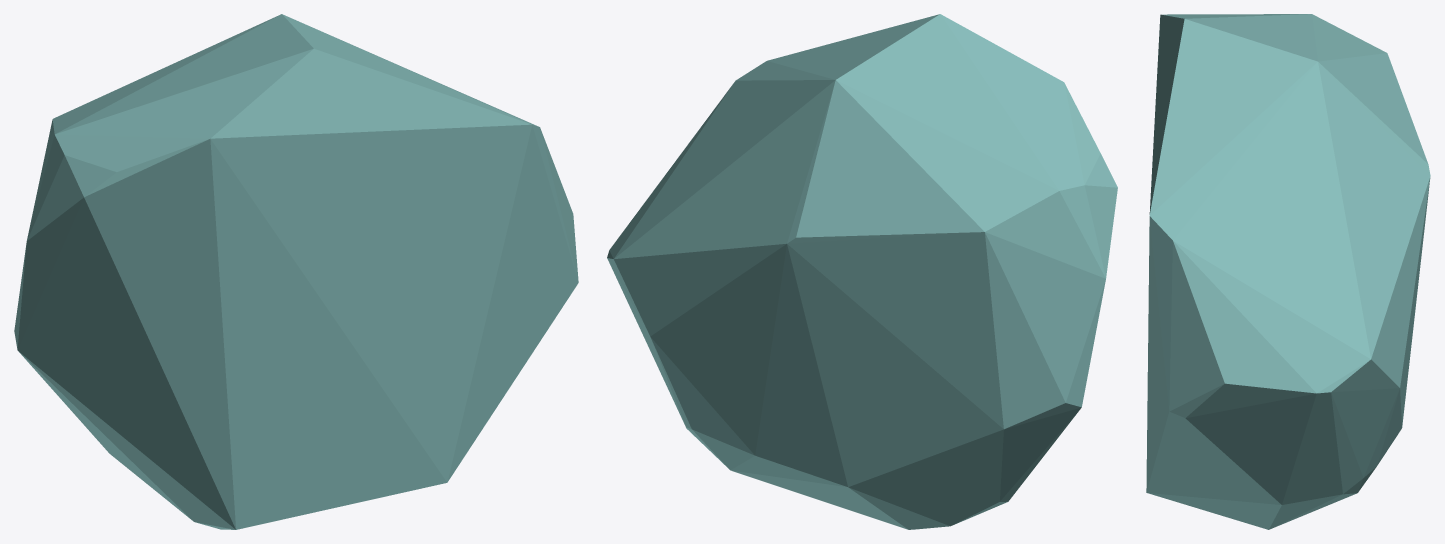
The model's file is food_produce_garlic_a01.glb.
3 views of the same model, side by side, from view 1: azimuth 30°, elevation 25°; view 2: azimuth 150°, elevation 25°; view 3: azimuth 270°, elevation 25° (orthographic). The views are drawn at different scales.
Visible parts, largest first — view 1: geometry_0; view 2: geometry_0; view 3: geometry_0.
Part boxes in pixels (<box>): geometry_0: <box>14,14,578,529</box>; geometry_0: <box>607,14,1117,529</box>; geometry_0: <box>1146,14,1430,529</box>.
Size of the model in its own units: 0.3995 by 0.366 by 0.2038.
